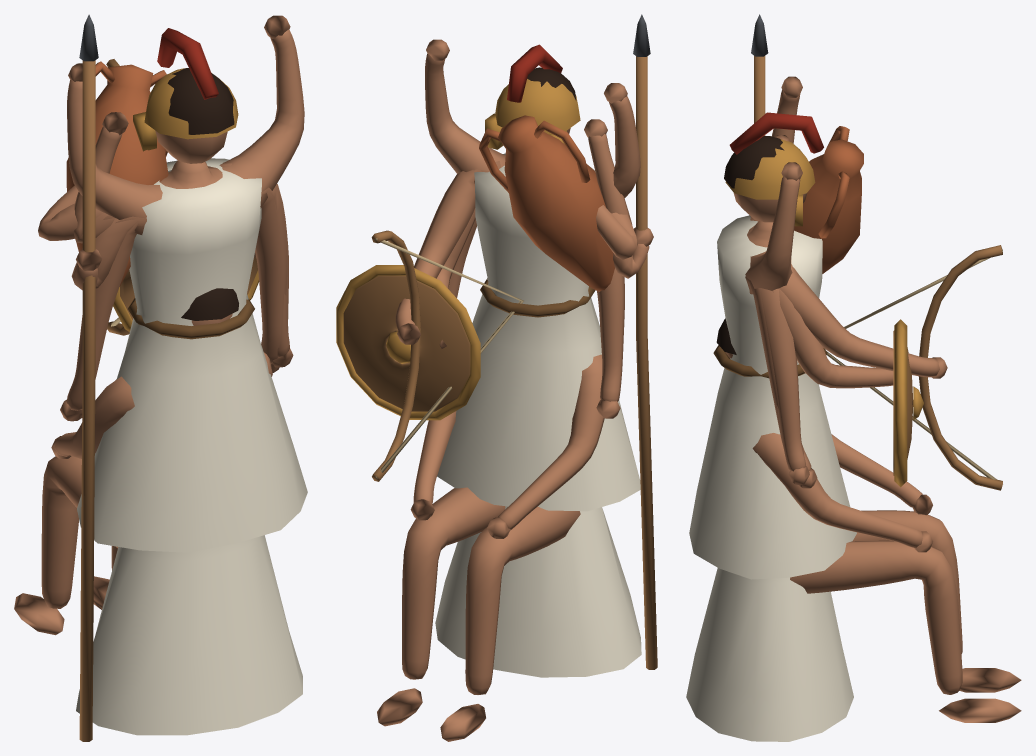
File: figures.glb
3 renders of one model, left to right at view 1: azimuth 30°, elevation 25°; view 2: azimuth 150°, elevation 25°; view 3: azimuth 270°, elevation 25°, orthographic. The views are drawn at different scales.
Parts seen in each view (by area): view 1: fig_archer, fig_fisher_sit, fig_marine, fig_keleustes, fig_dockworker_carry, fig_sailor_idle; view 2: fig_fisher_sit, fig_archer, fig_marine, fig_dockworker_carry, fig_keleustes, fig_sailor_idle; view 3: fig_fisher_sit, fig_archer, fig_marine, fig_dockworker_carry, fig_keleustes, fig_sailor_idle.
Boxes of the visible parts, box(x1,y1,x2,y2) form: fig_archer: box(38, 59, 307, 552); fig_fisher_sit: box(14, 288, 302, 735); fig_marine: box(71, 14, 262, 741); fig_keleustes: box(67, 15, 304, 234); fig_dockworker_carry: box(66, 61, 293, 367); fig_sailor_idle: box(60, 168, 287, 421); fig_fisher_sit: box(377, 354, 641, 741); fig_archer: box(371, 67, 640, 511); fig_marine: box(336, 14, 657, 669); fig_dockworker_carry: box(449, 115, 632, 291); fig_keleustes: box(425, 39, 640, 197); fig_sailor_idle: box(448, 219, 624, 418); fig_fisher_sit: box(686, 318, 1021, 741); fig_archer: box(689, 136, 1002, 579); fig_marine: box(725, 14, 923, 487); fig_dockworker_carry: box(745, 126, 863, 484); fig_keleustes: box(745, 76, 802, 294); fig_sailor_idle: box(749, 240, 817, 488).
Bounding box in the file's own units: 0.8023 × 1.97 × 0.9282.
